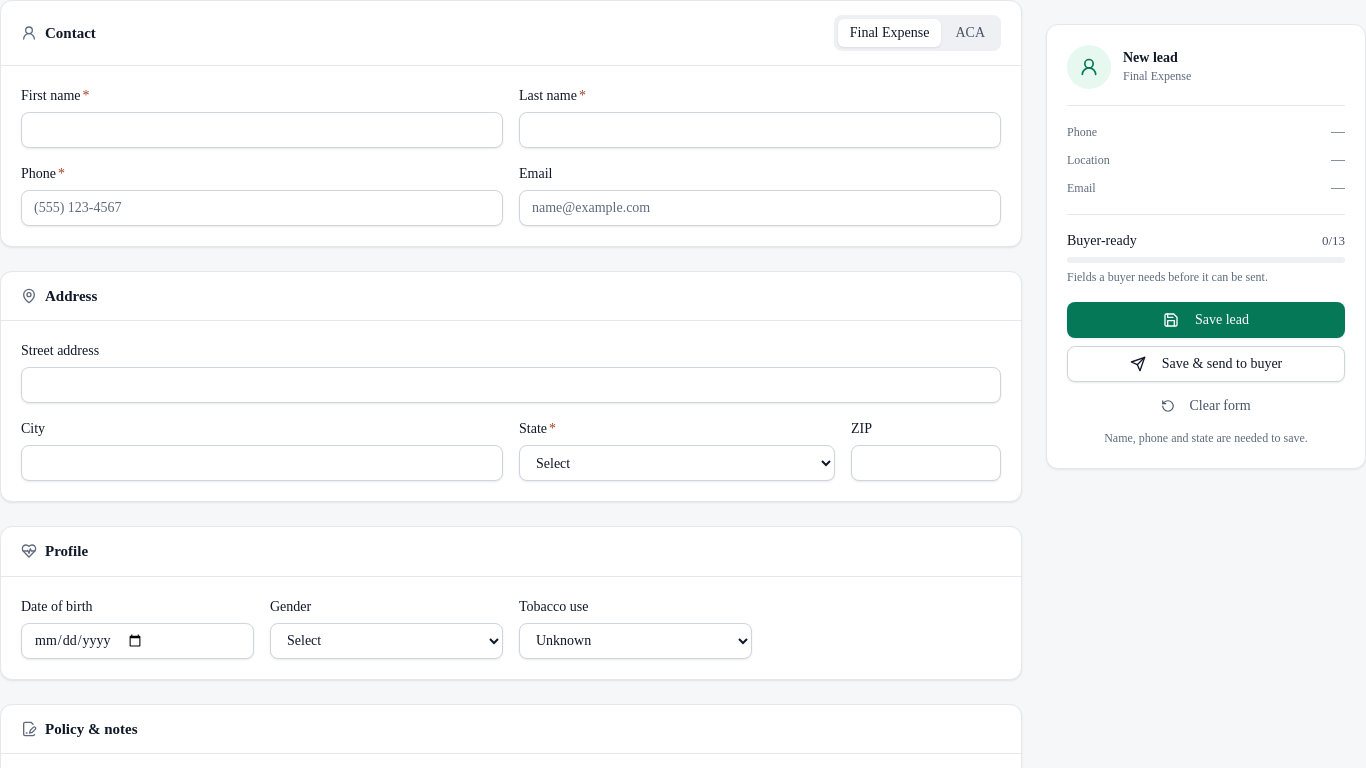
Scenario: manual lead form › saves to the CRM with only the basics, and sends nothing to a buyer
The image size is (1366, 768).
Type "Carol" into the field labelled "First name*" at (262, 130), box 21,112 -> 503,148
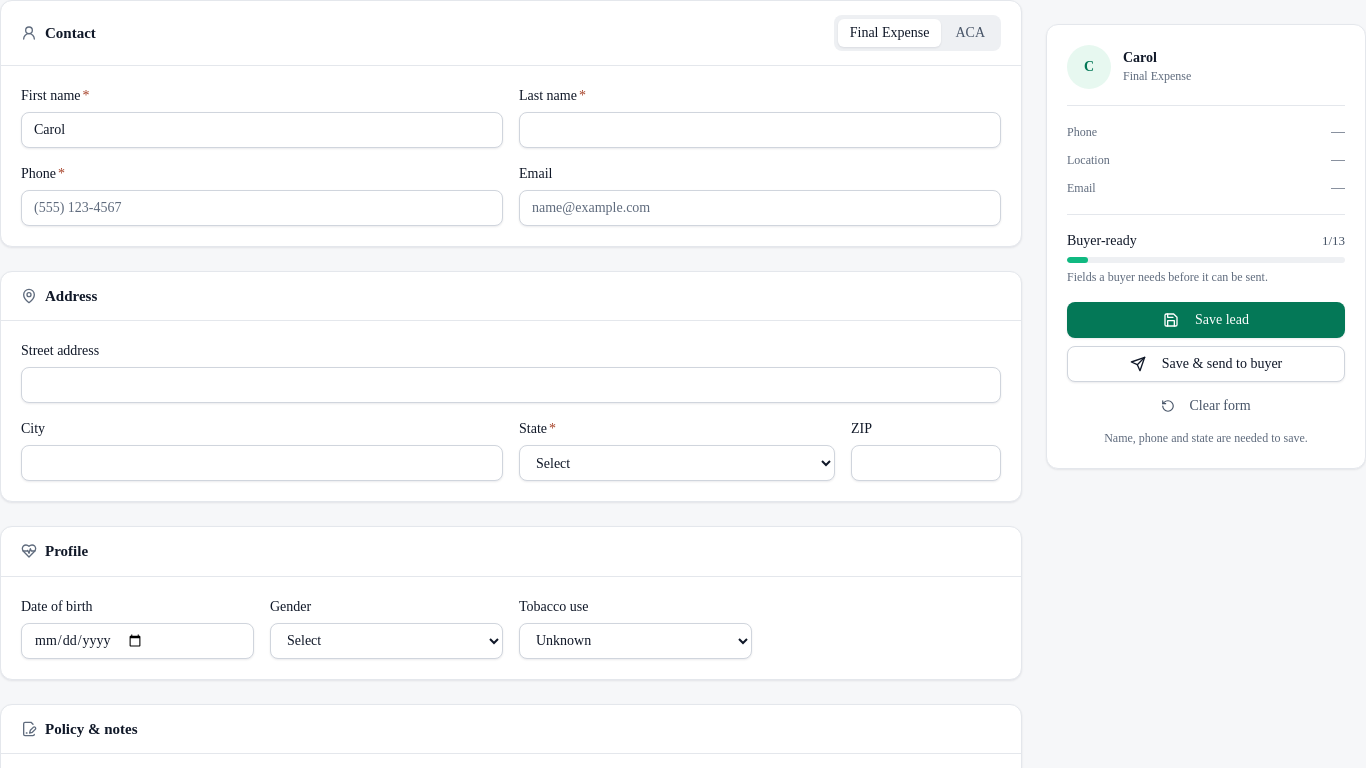
Type "Smith" into the field labelled "Last name*" at (760, 130), box 519,112 -> 1001,148
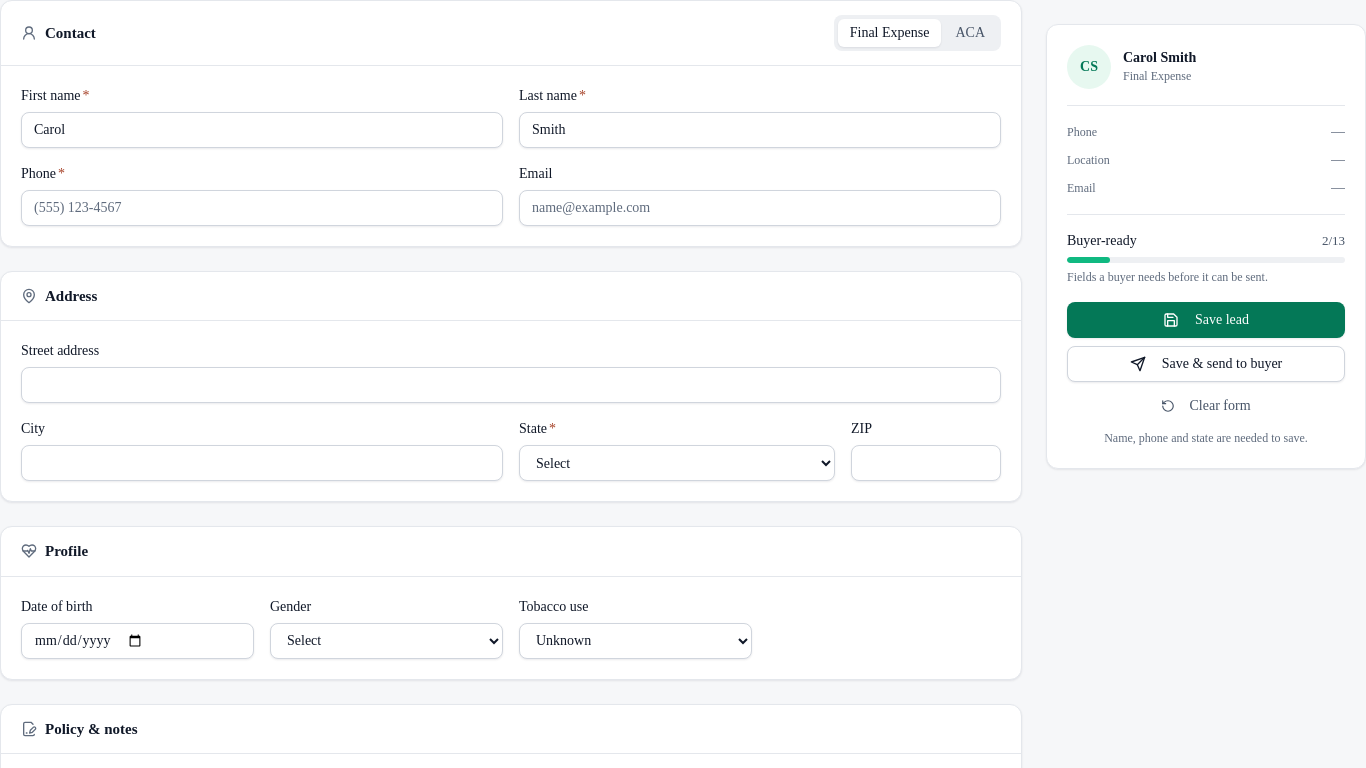
Type "8655551234" into the field labelled "Phone*" at (262, 208), box 21,190 -> 503,226
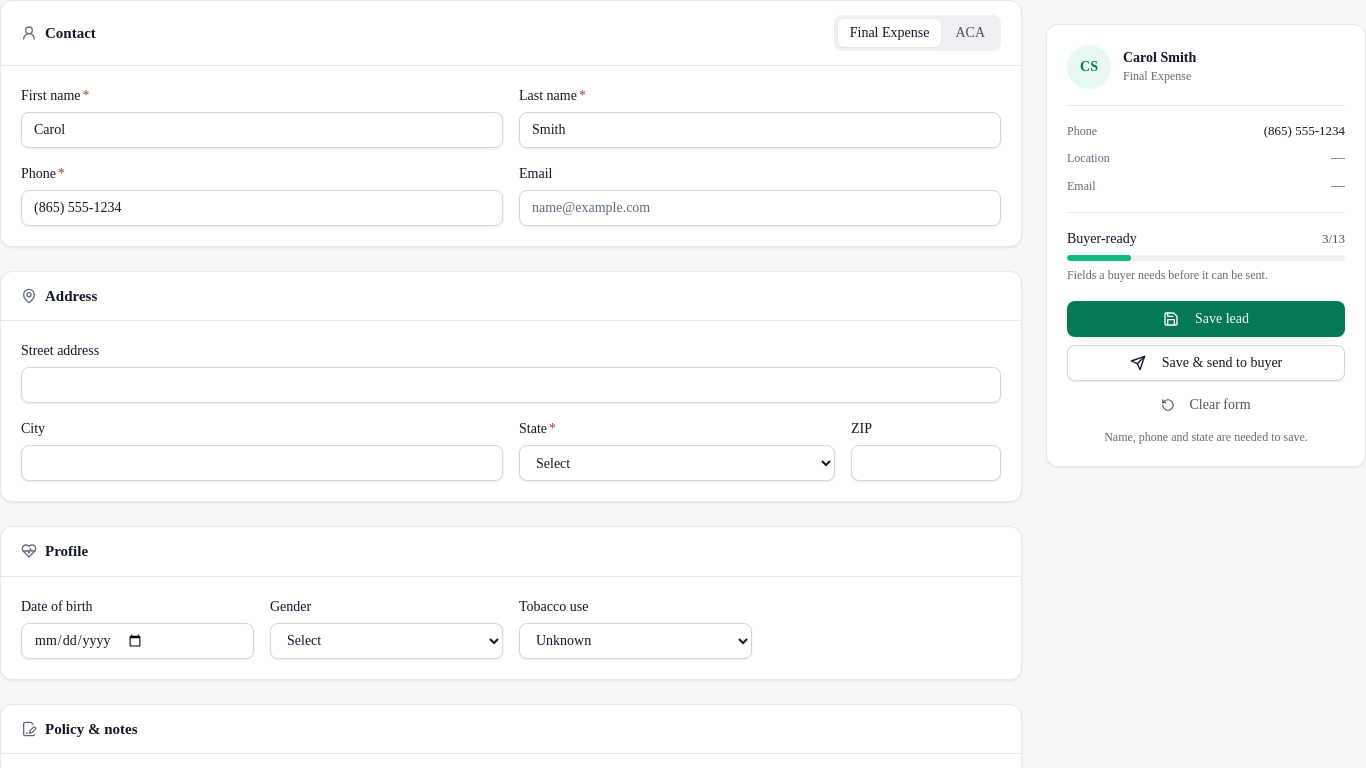
Select "Tennessee" in the dropdown labelled "State*" at (677, 463), box 519,445 -> 835,481
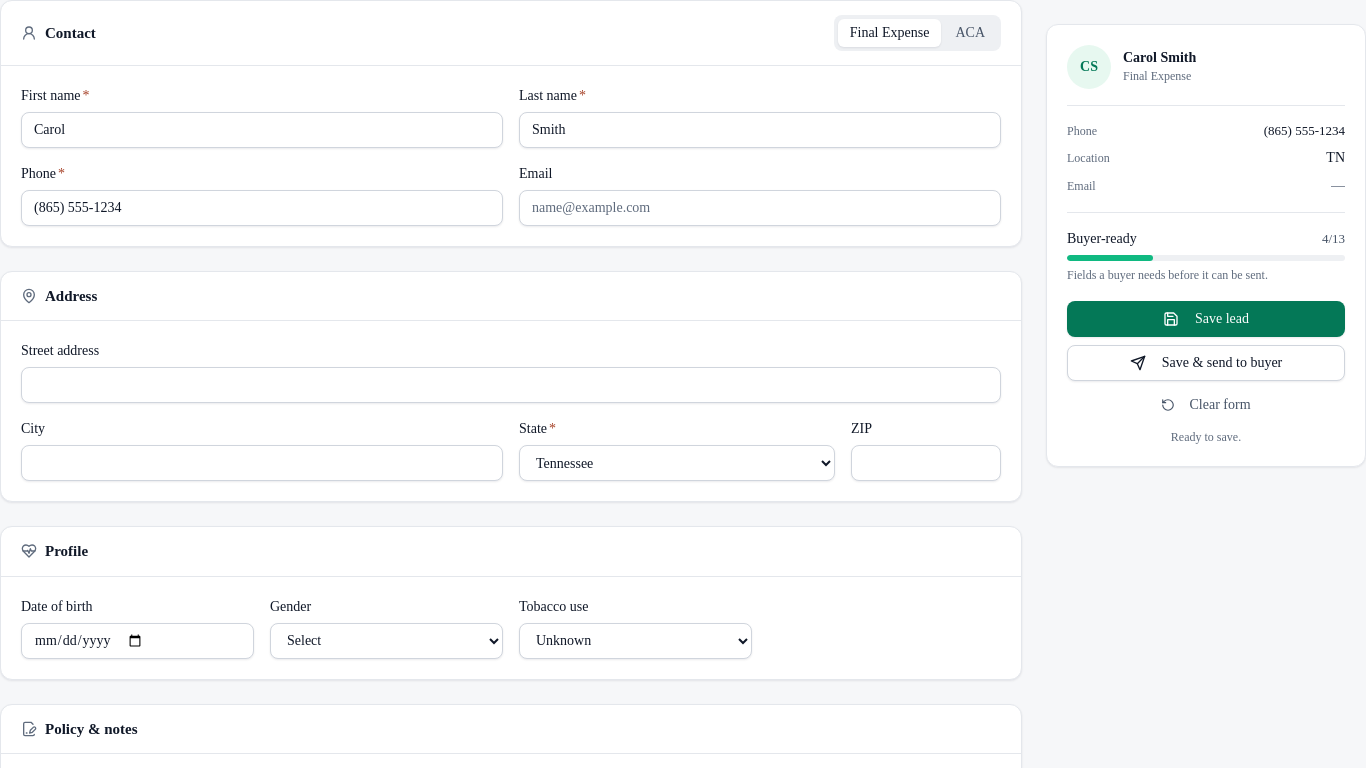
Click the button "Save lead" at (1206, 319), box 1067,301 -> 1345,337
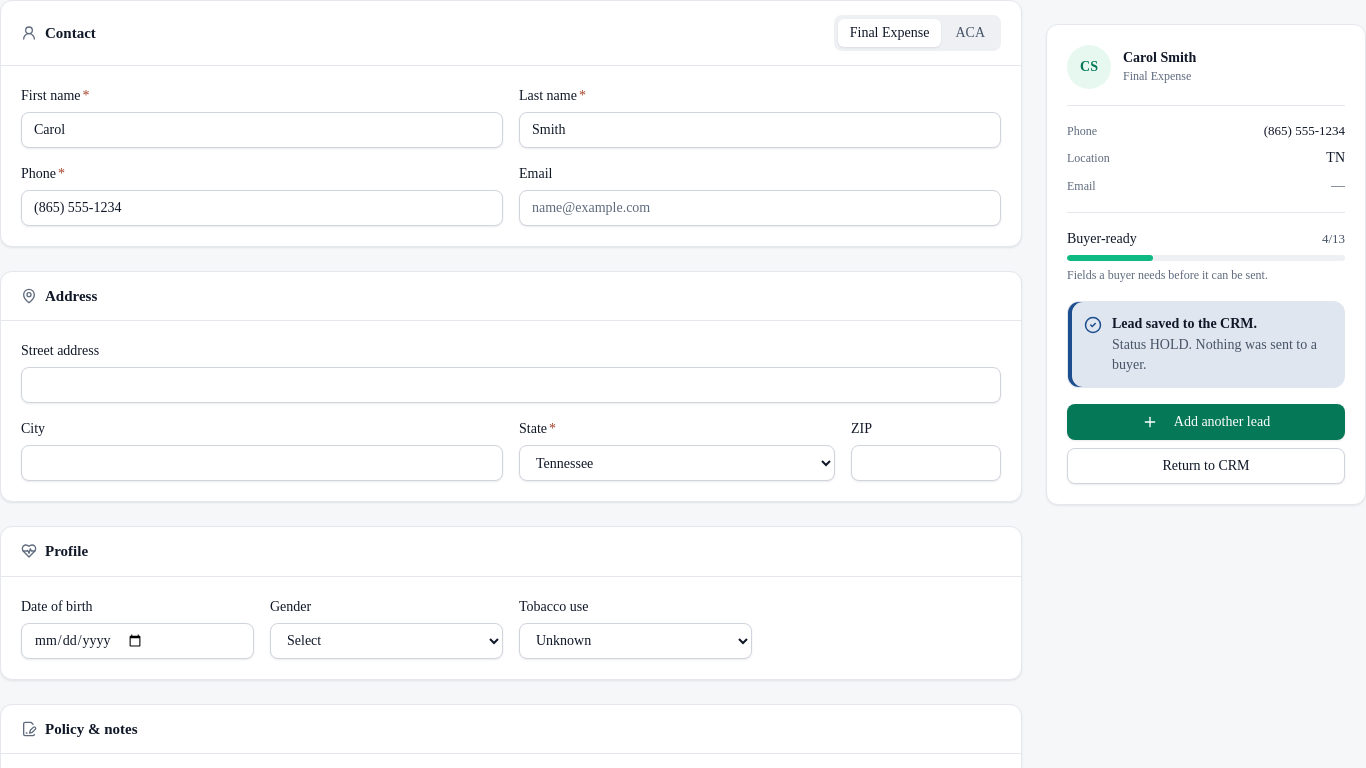
Expected: the heading "Lead saved to the CRM." is shown, 1112,316 -> 1257,331
